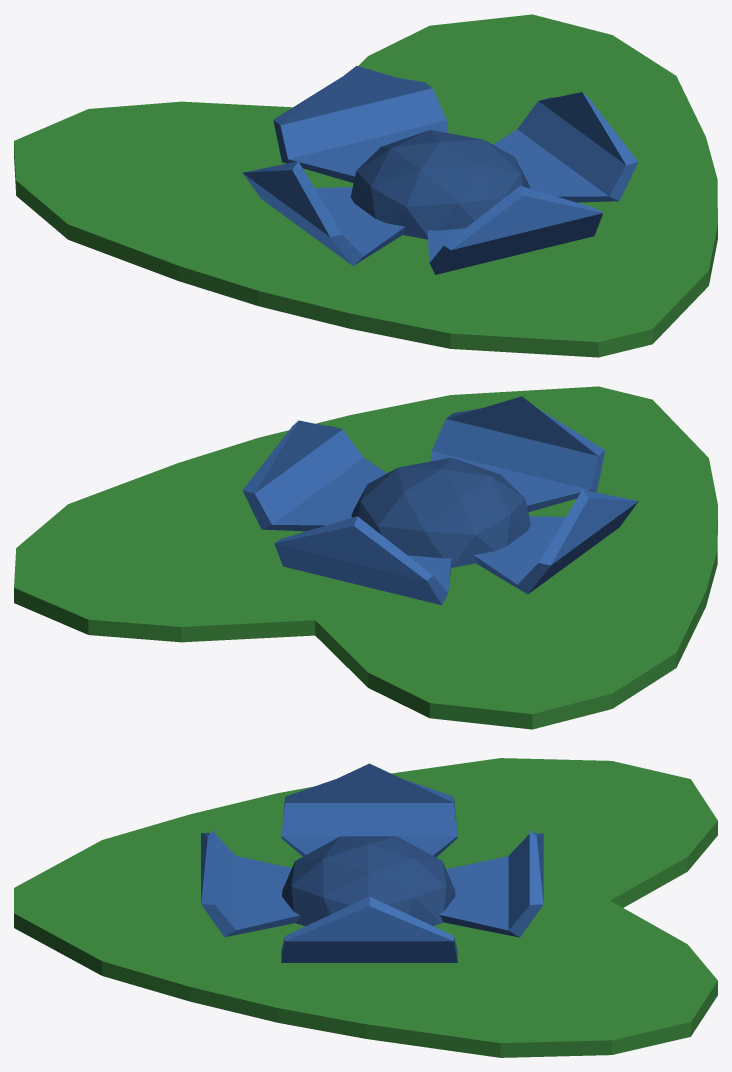
File: Flower_6_Blue.fbx
3 views of the same model, one above another, from view 1: azimuth 30°, elevation 25°; view 2: azimuth 150°, elevation 25°; view 3: azimuth 270°, elevation 25° (orthographic). The views are drawn at different scales.
Visible parts, largest first — view 1: Flower_6_Blue_Part_1, Flower_6_Blue_Part_2, Flower_6_Blue_Part_3; view 2: Flower_6_Blue_Part_1, Flower_6_Blue_Part_2, Flower_6_Blue_Part_3; view 3: Flower_6_Blue_Part_1, Flower_6_Blue_Part_2, Flower_6_Blue_Part_3.
Part boxes in pixels (bbox=[...]): Flower_6_Blue_Part_1: bbox=[14, 14, 717, 357]; Flower_6_Blue_Part_2: bbox=[242, 65, 638, 274]; Flower_6_Blue_Part_3: bbox=[350, 130, 530, 239]; Flower_6_Blue_Part_1: bbox=[14, 386, 717, 729]; Flower_6_Blue_Part_2: bbox=[242, 396, 638, 605]; Flower_6_Blue_Part_3: bbox=[351, 457, 530, 567]; Flower_6_Blue_Part_1: bbox=[14, 758, 717, 1057]; Flower_6_Blue_Part_2: bbox=[201, 763, 543, 962]; Flower_6_Blue_Part_3: bbox=[282, 836, 455, 926].
Bounding box in the file's own units: 76.67 × 10.7 × 80.
